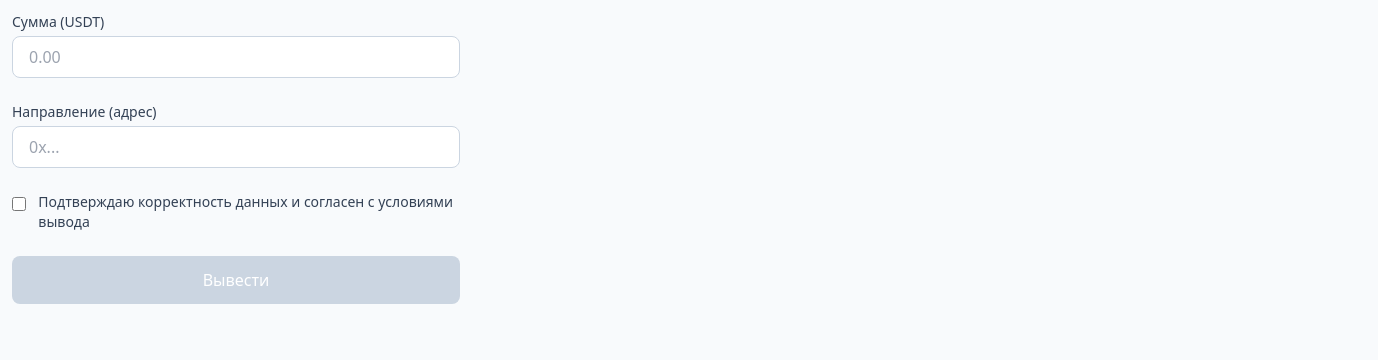
WithdrawForm › happy-path: submit creates withdrawal and shows success
Step 1. Type "100" into the field labelled "Сумма (USDT)" → (236,57), box [12,36,460,78]
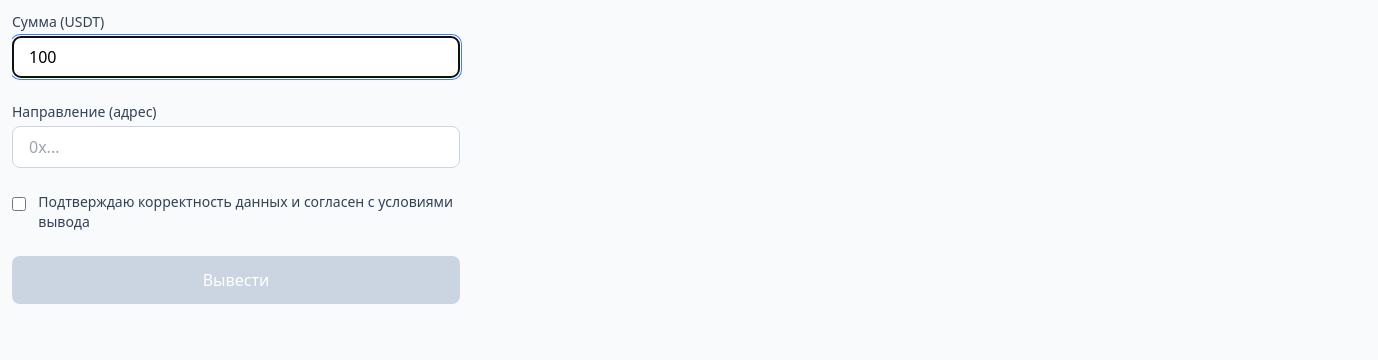
Step 2. Type "0xabc" into the field labelled "Направление (адрес)" → (236,147), box [12,126,460,168]
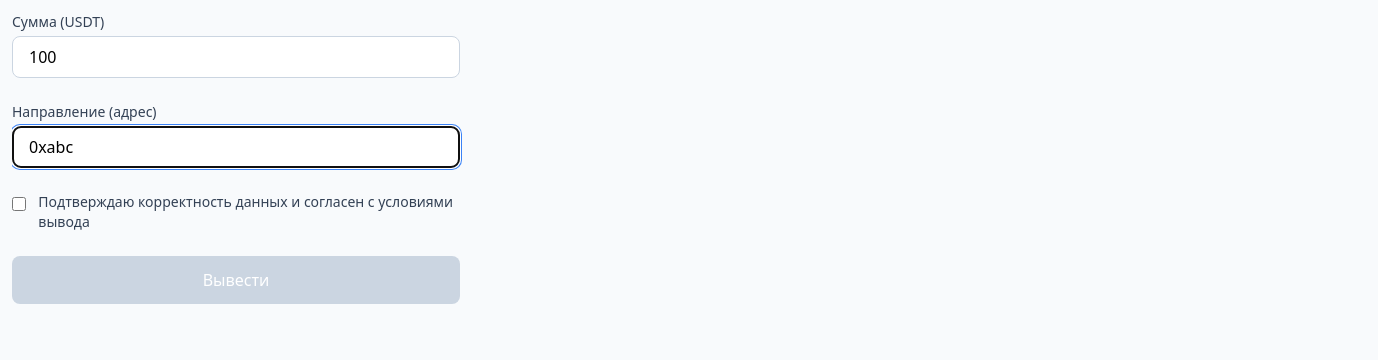
Step 3. Click the checkbox labelled "Подтверждаю" → (19,204), box [12,196,26,212]
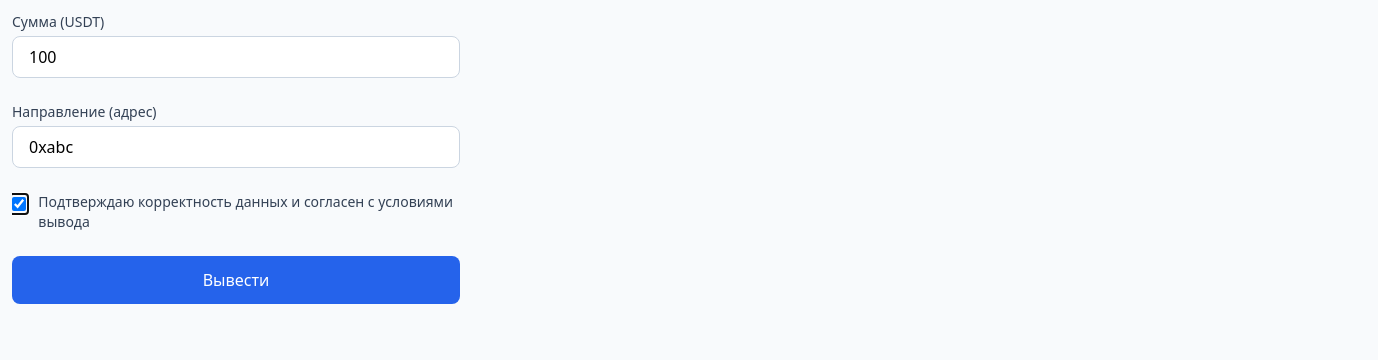
Step 4. Click the button "Вывести" → (236,280), box [12,256,460,304]
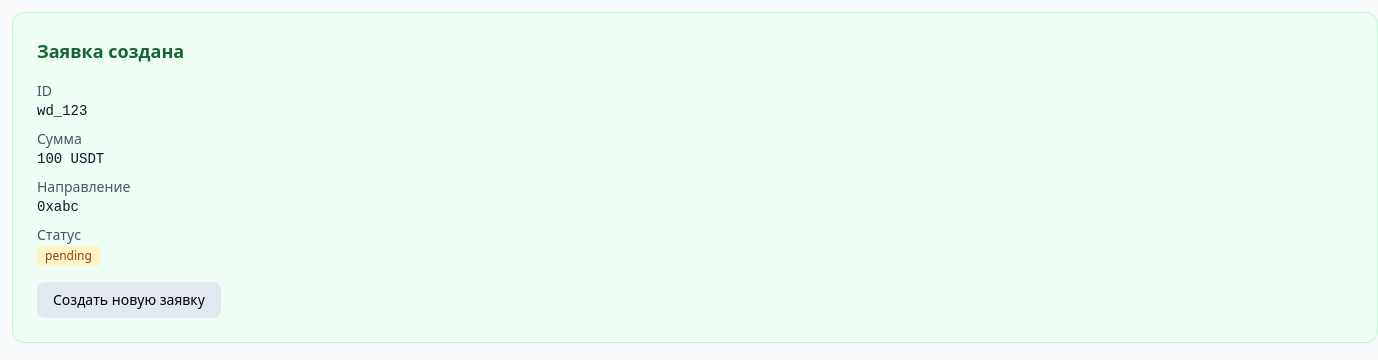
Now the heading "Заявка создана" is shown, box [37,39,184,63]
Now the text "wd_123" is shown, box [37,103,87,119]
Now the text "100 USDT" is shown, box [37,151,104,167]
